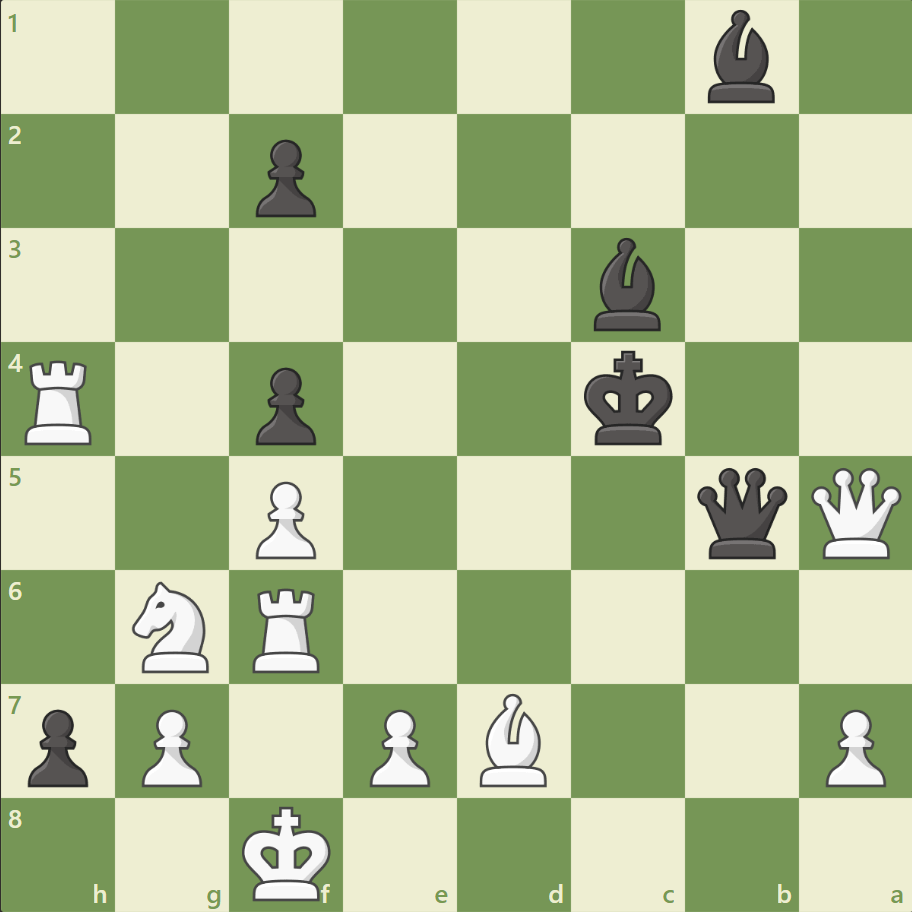B: (471, 687, 555, 790)
K: (238, 798, 338, 906)
N: (124, 575, 222, 677)
P: (133, 700, 208, 791), (247, 473, 322, 564), (815, 700, 889, 791), (361, 700, 435, 791)
Q: (805, 463, 904, 562)
R: (246, 579, 329, 676), (19, 352, 102, 449)
b: (585, 233, 669, 336), (698, 6, 782, 109)
k: (579, 344, 679, 452)
p: (20, 700, 95, 791), (247, 359, 322, 450), (247, 132, 322, 223)
q: (691, 463, 790, 562)
